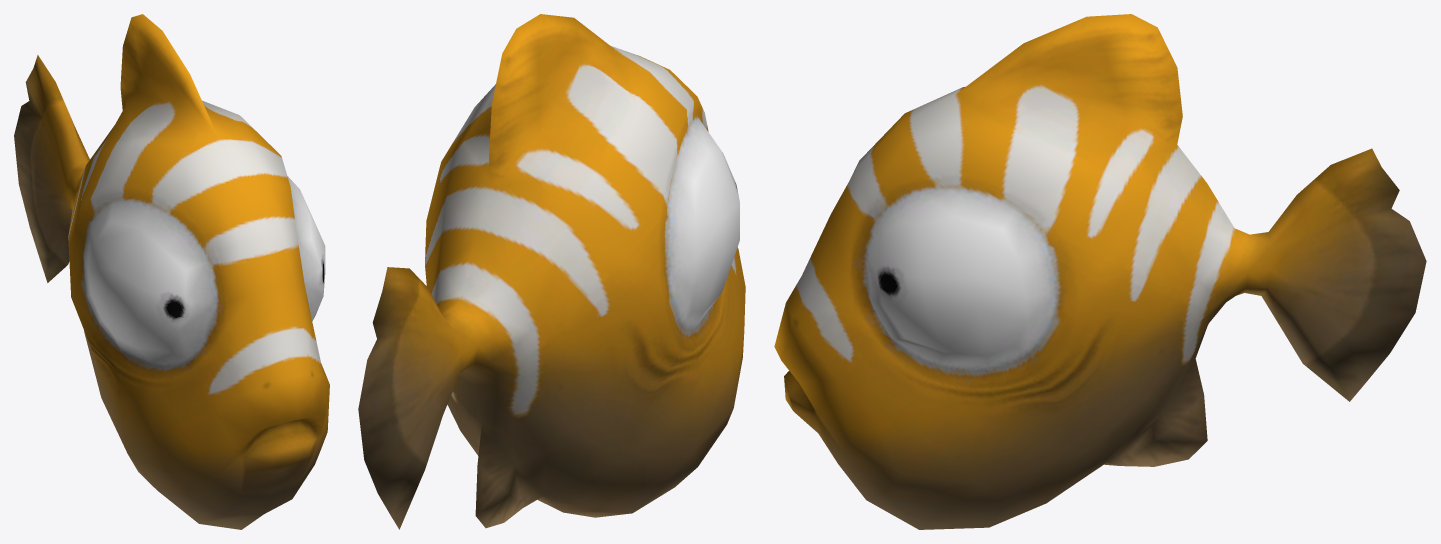
File: Fish.fbx
The picture shows the model from 3 angles, left to right: view 1: azimuth 30°, elevation 25°; view 2: azimuth 150°, elevation 25°; view 3: azimuth 270°, elevation 25°; orthographic projection. The views are drawn at different scales.
Visible parts, largest first — view 1: node_id67; view 2: node_id67; view 3: node_id67.
Part boxes in pixels (<box>): node_id67: <box>14,14,329,529</box>; node_id67: <box>358,14,745,529</box>; node_id67: <box>774,14,1426,529</box>.
Size of the model in its own units: 0.2458 by 0.512 by 0.5929.
Materials: 1 (1 with a texture image).
